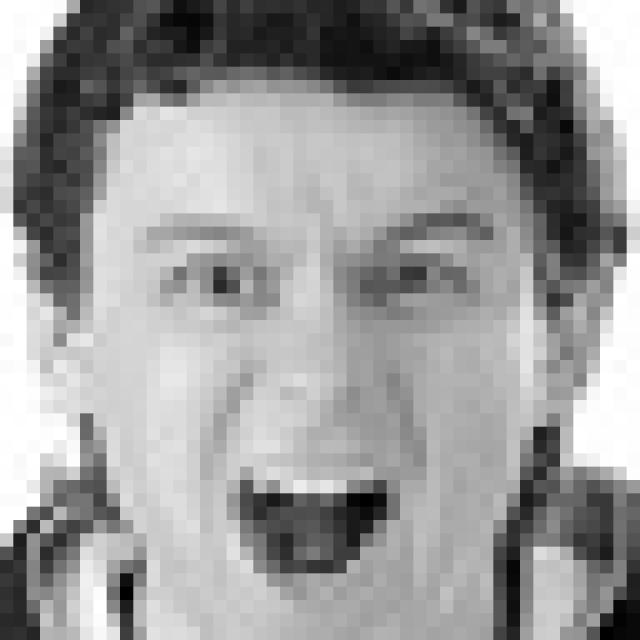angry: (134, 208, 492, 597)
